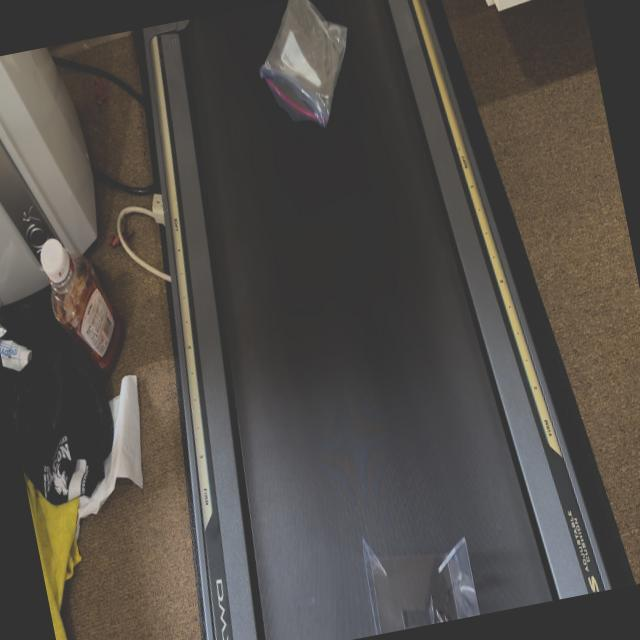Trash: (245, 0, 366, 138), (354, 516, 482, 636)
